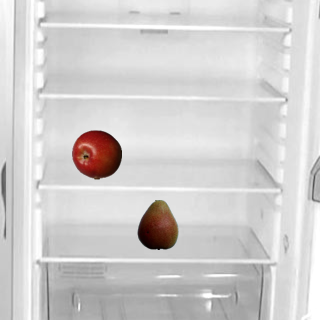Apple Braeburn: (71, 129, 121, 179)
Pear Forelle: (132, 199, 182, 249)
